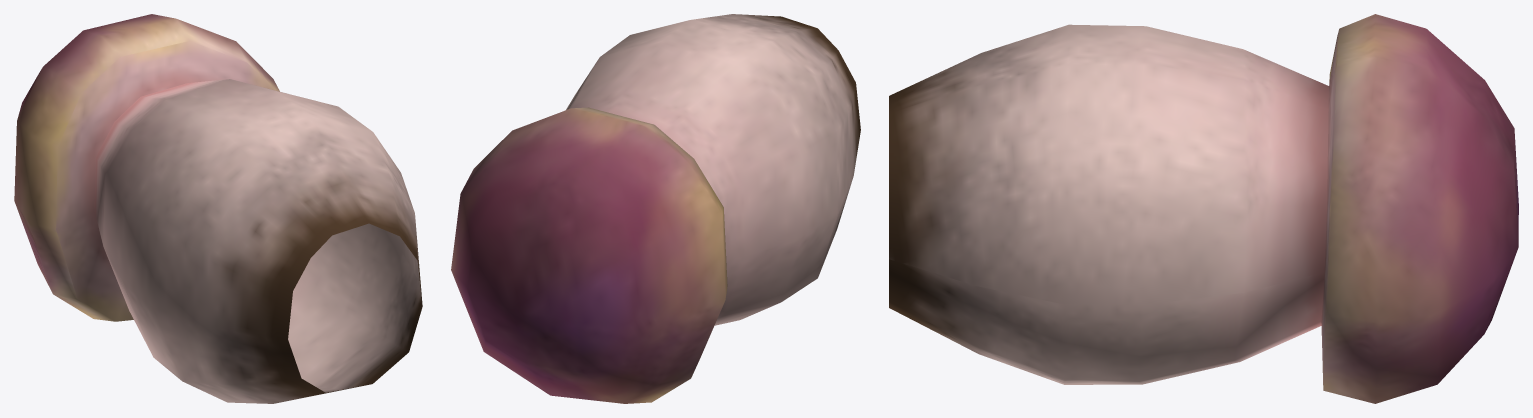
File: Floor mushroom 2 - LOD 0.fbx
3 renders of one model, left to right at view 1: azimuth 30°, elevation 25°; view 2: azimuth 150°, elevation 25°; view 3: azimuth 270°, elevation 25°, orthographic. The views are drawn at different scales.
Visible parts, largest first — view 1: Floor mushroom 2 - LOD 0; view 2: Floor mushroom 2 - LOD 0; view 3: Floor mushroom 2 - LOD 0.
Part boxes in pixels (box(x1,y1,x2,y2)): Floor mushroom 2 - LOD 0: box(14, 14, 422, 403); Floor mushroom 2 - LOD 0: box(451, 14, 860, 403); Floor mushroom 2 - LOD 0: box(889, 14, 1518, 403).
Size of the model in its own units: 0.2148 by 0.2295 by 0.379.
